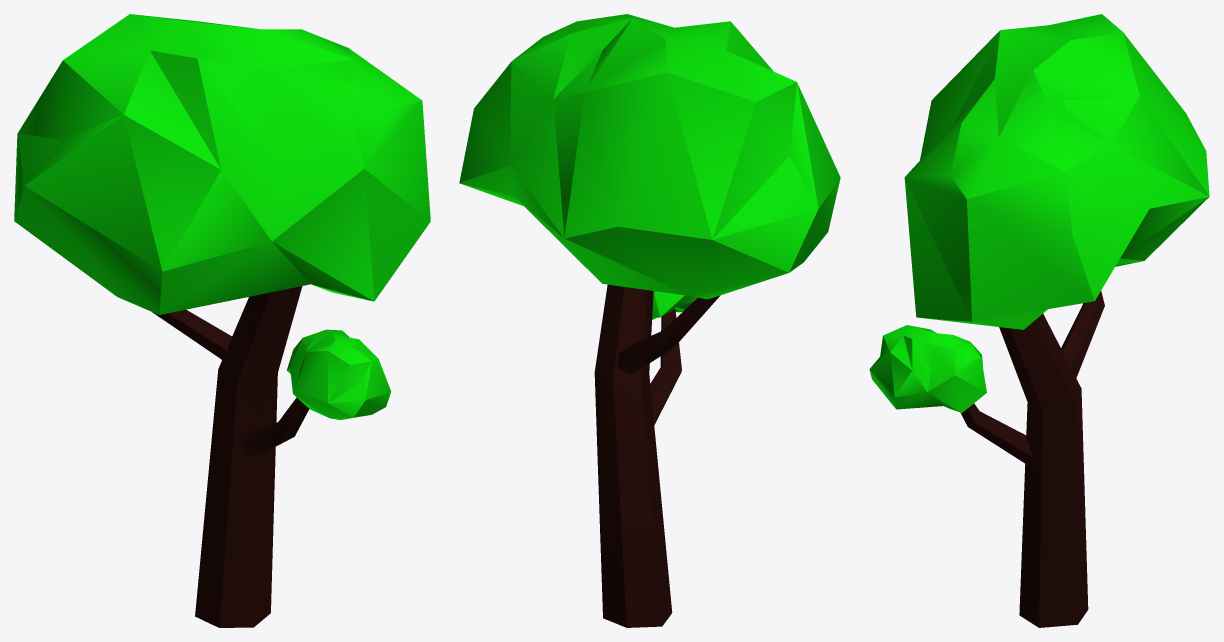
The model's file is tree01.fbx.
The picture shows the model from 3 angles, left to right: view 1: azimuth 30°, elevation 25°; view 2: azimuth 150°, elevation 25°; view 3: azimuth 270°, elevation 25°; orthographic projection. The views are drawn at different scales.
Parts seen in each view (by area): view 1: spookyTrees1; view 2: spookyTrees1; view 3: spookyTrees1.
Part boxes in pixels (x1=…): spookyTrees1: x1=14, y1=14, x2=430, y2=627; spookyTrees1: x1=459, y1=14, x2=840, y2=627; spookyTrees1: x1=869, y1=14, x2=1209, y2=627.
Bounding box in the file's own units: 2.42 × 3.89 × 2.15.
